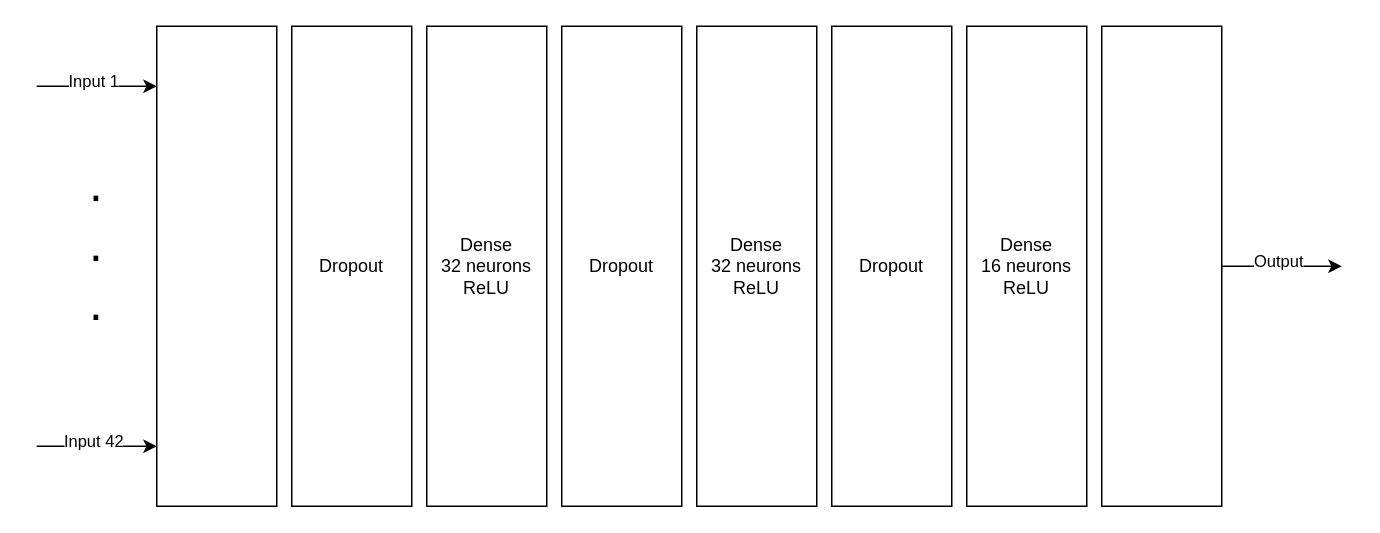
Some shapes in this 1380 by 533 pixel diagram are drawn without their labels. Each missing label, with the centre of its shape:
Input layer: (216,265)
Output Softmax: (1161,265)
